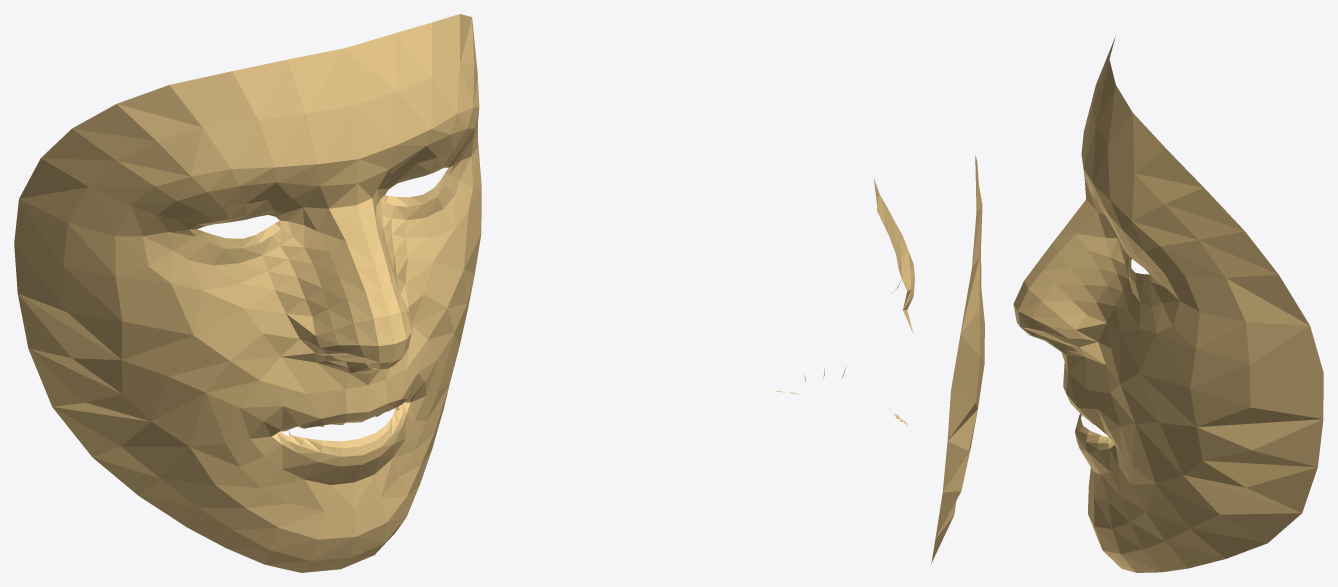
The model's file is example-head.glb.
3 renders of one model, left to right at view 1: azimuth 30°, elevation 25°; view 2: azimuth 150°, elevation 25°; view 3: azimuth 270°, elevation 25°, orthographic. The views are drawn at different scales.
Size of the model in its own units: 3.48 by 3.97 by 2.25.
